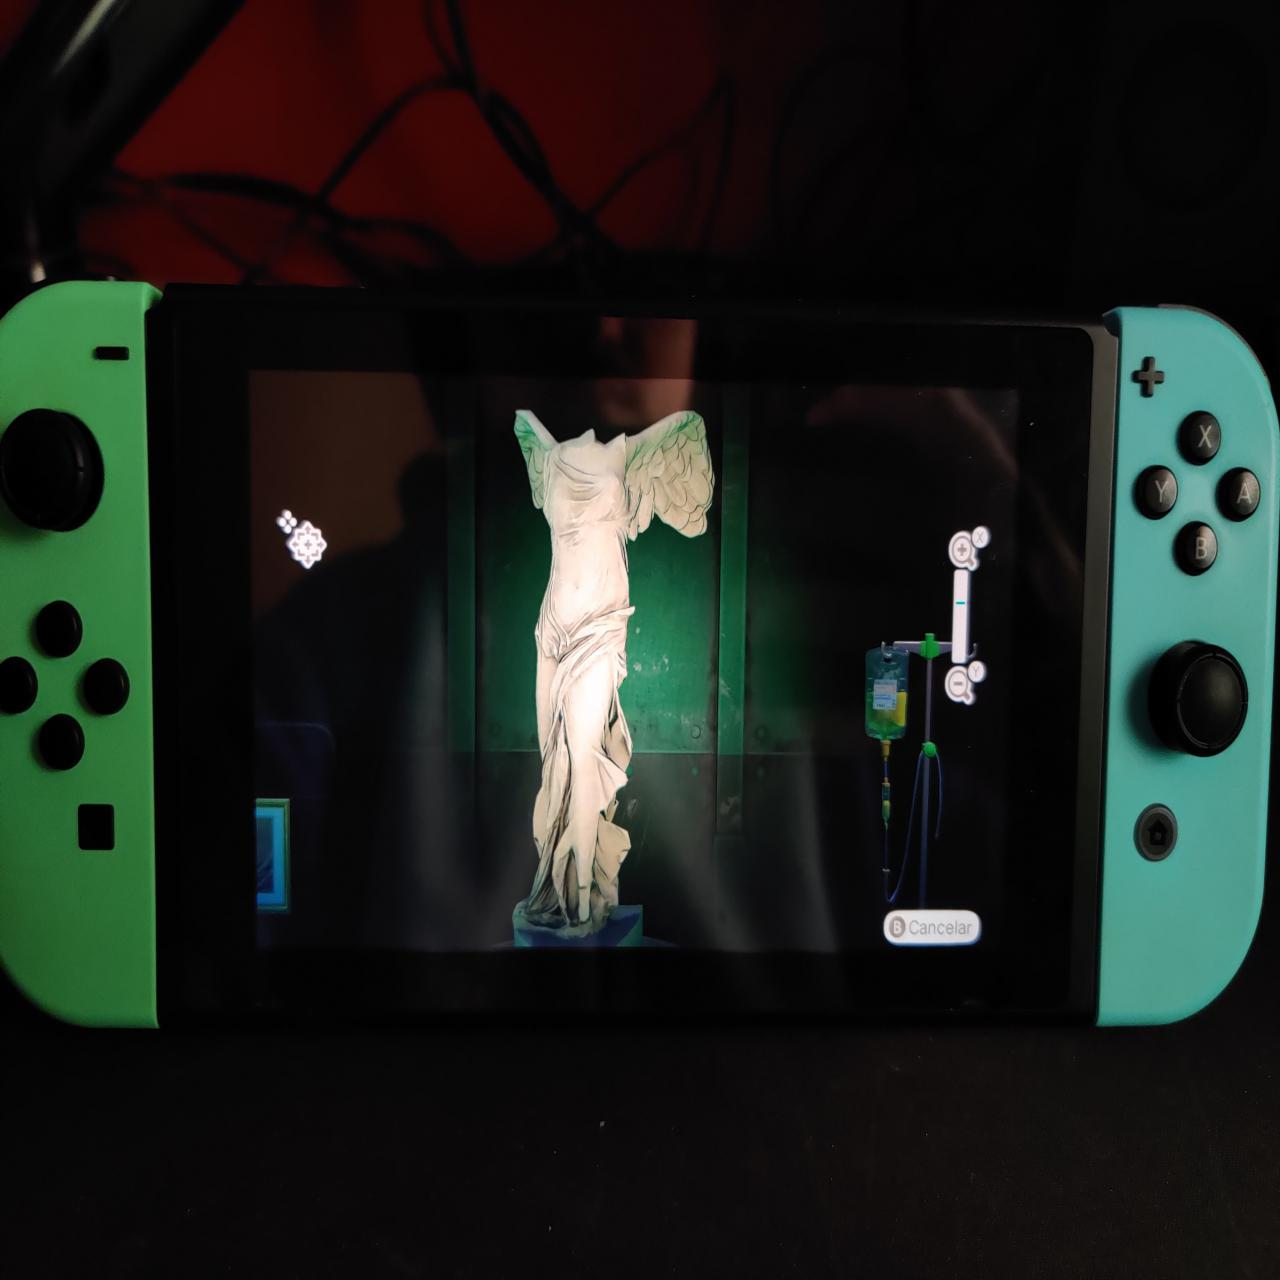SamothraceFake: (504, 396, 720, 954)
